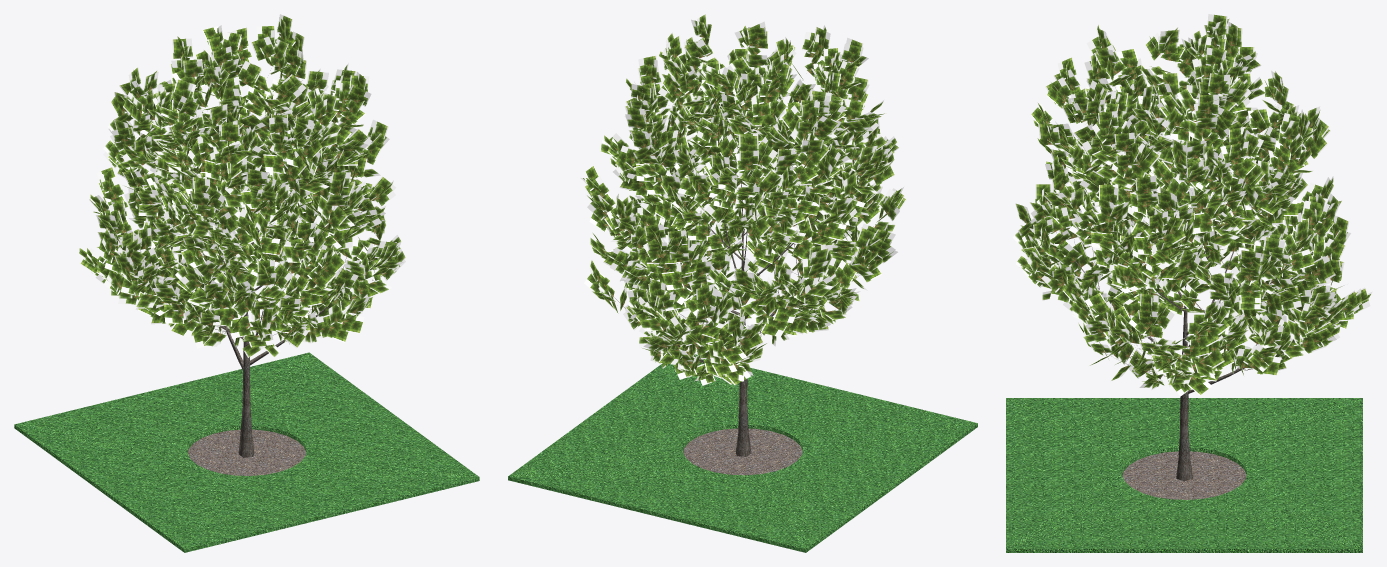
Rendered from maple_sugar_lowpoly.gltf.
The picture shows the model from 3 angles, left to right: view 1: azimuth 30°, elevation 25°; view 2: azimuth 150°, elevation 25°; view 3: azimuth 270°, elevation 25°; orthographic projection. The views are drawn at different scales.
Parts seen in each view (by area): view 1: Material2 (×3); view 2: Material2 (×3); view 3: Material2 (×3).
Boxes of the visible parts, x1,y1,x2,y2 form: Material2 (×3): (14, 246, 479, 552); Material2 (×3): (508, 230, 977, 552); Material2 (×3): (1006, 285, 1362, 552).
Bounding box in the file's own units: 242 × 325 × 247.
4 materials, 4 textured.
